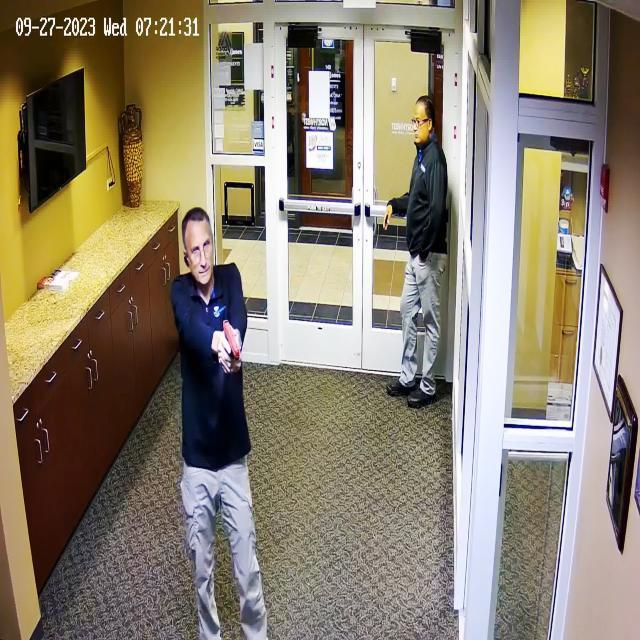Gun: (208, 306, 254, 371)
